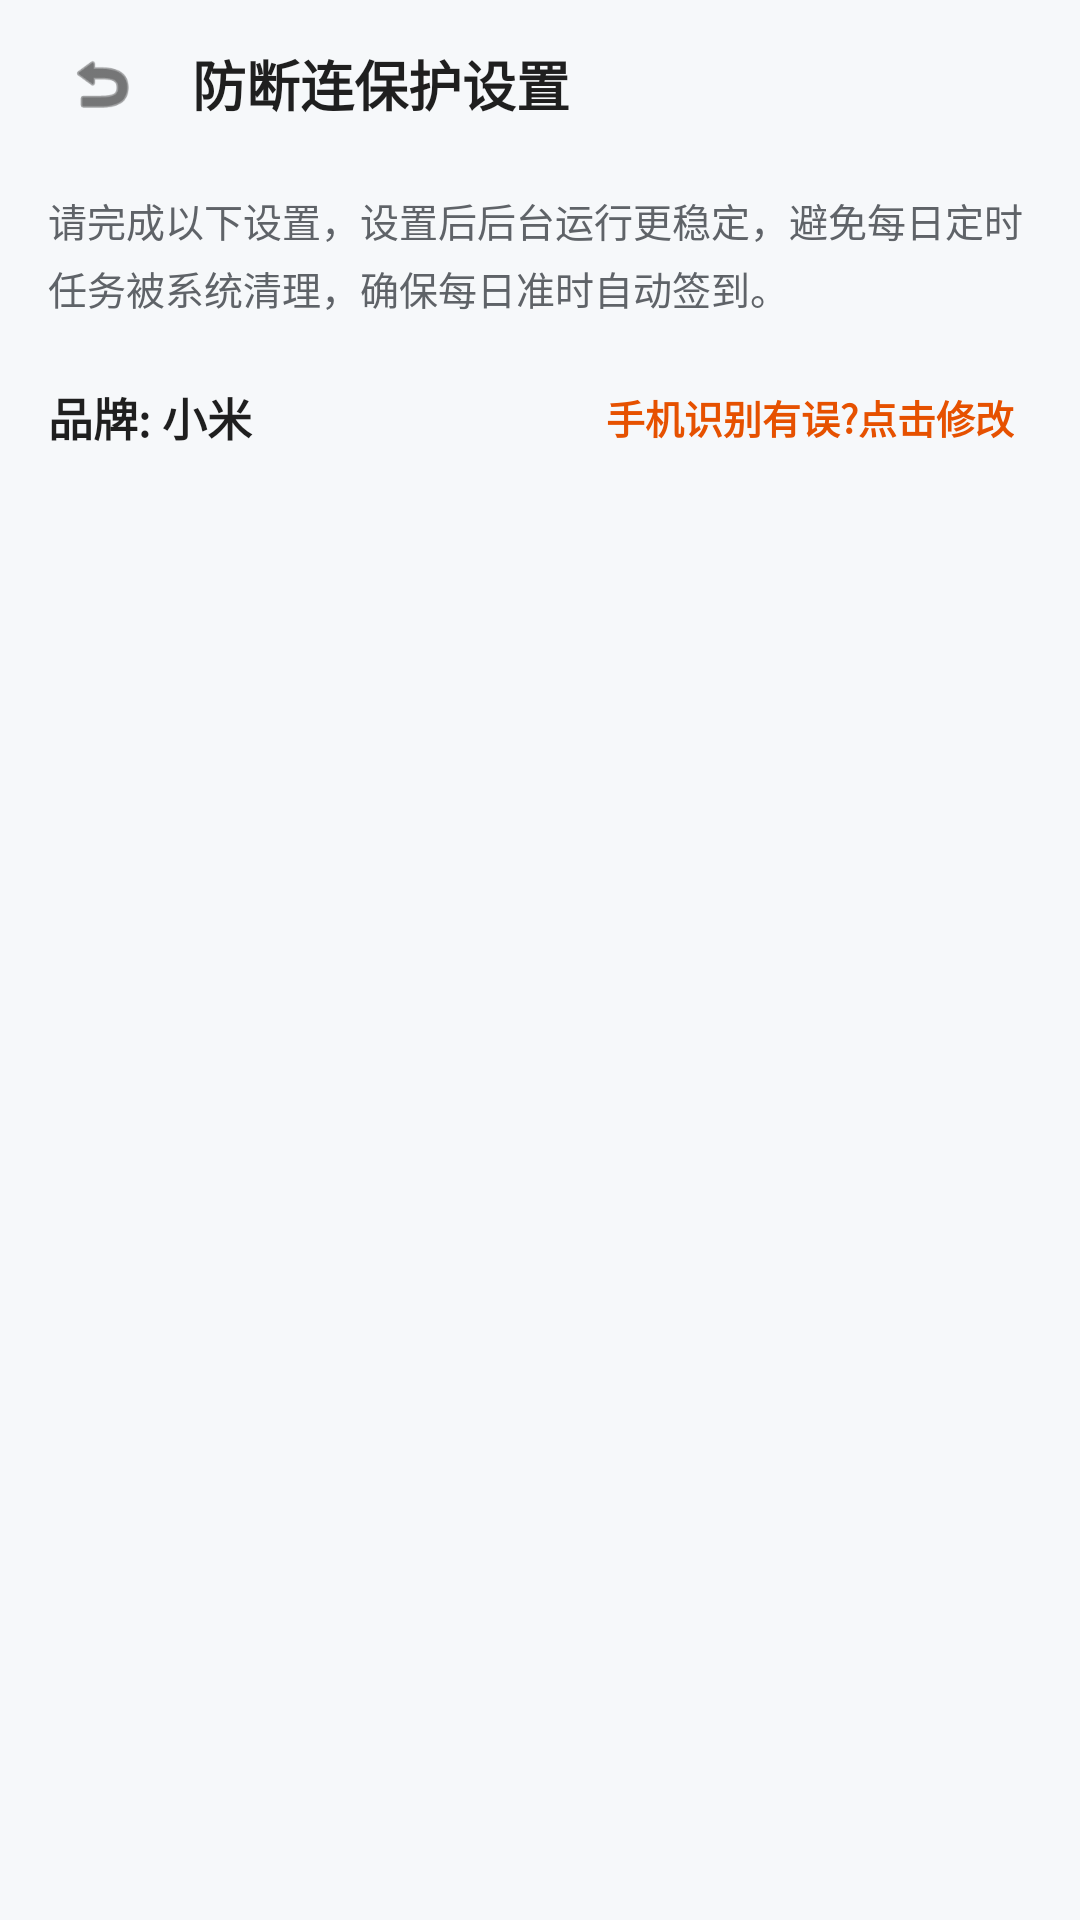

Icon bounding boxes for this 1080x1920 phone screenshot, format (x1, y1, x2, y2):
revert: (77, 61, 129, 108)
